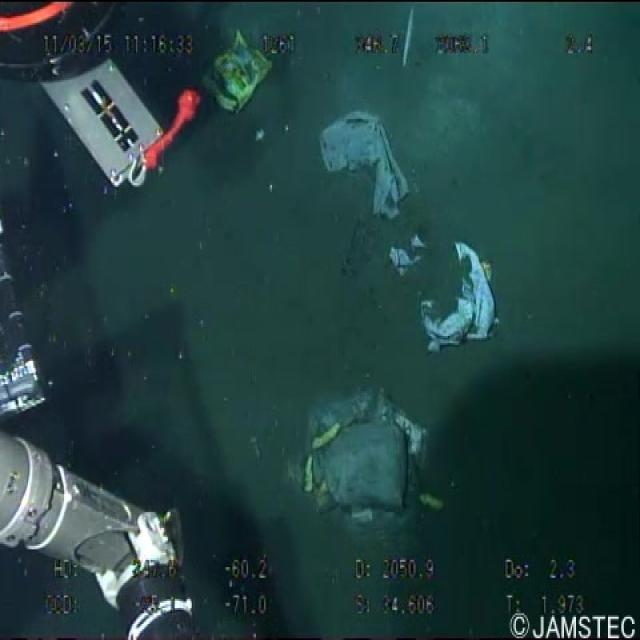plastic: (385, 228, 504, 359), (315, 105, 413, 220), (196, 25, 273, 119)
